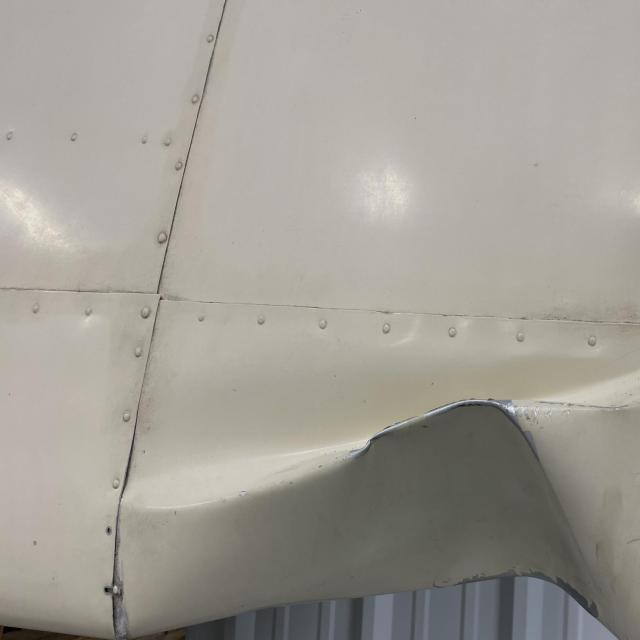Dent: (124, 400, 601, 630), (235, 353, 639, 467)
